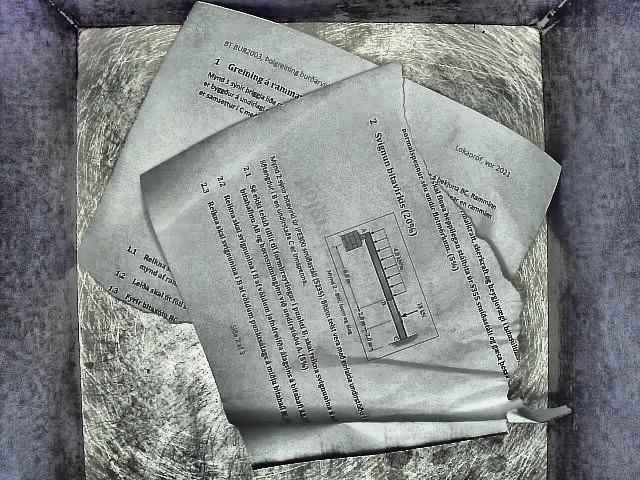Paper: (71, 0, 575, 480)
